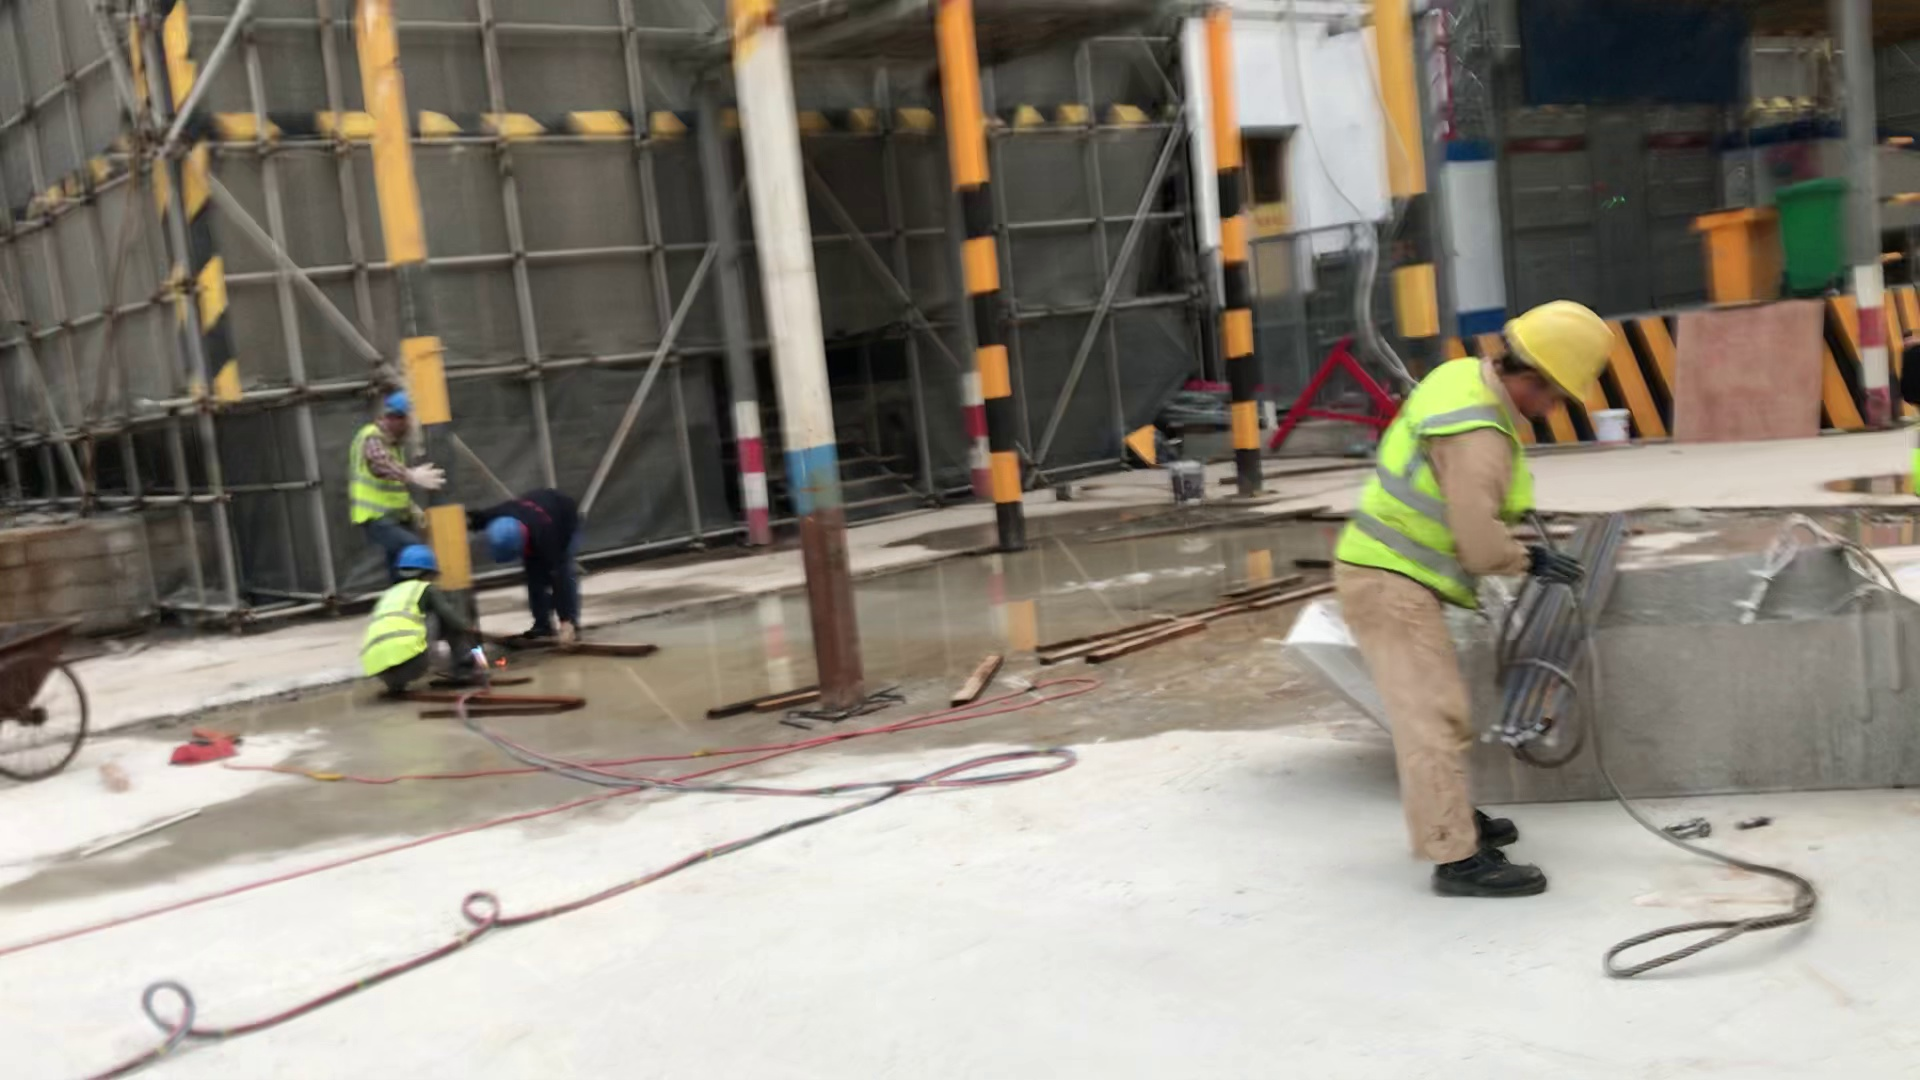fence: (1869, 122, 1920, 283)
handcart: (2, 592, 104, 793)
helmet: (1497, 287, 1627, 424), (479, 507, 539, 576), (375, 383, 424, 439), (393, 538, 448, 585)
hopper: (1273, 530, 1920, 841)
person: (1317, 272, 1671, 953), (478, 479, 631, 710), (352, 535, 498, 729), (335, 373, 440, 549)
rebar: (1502, 553, 1592, 788)
vest: (1332, 358, 1547, 623), (337, 420, 420, 535), (352, 572, 437, 684)
